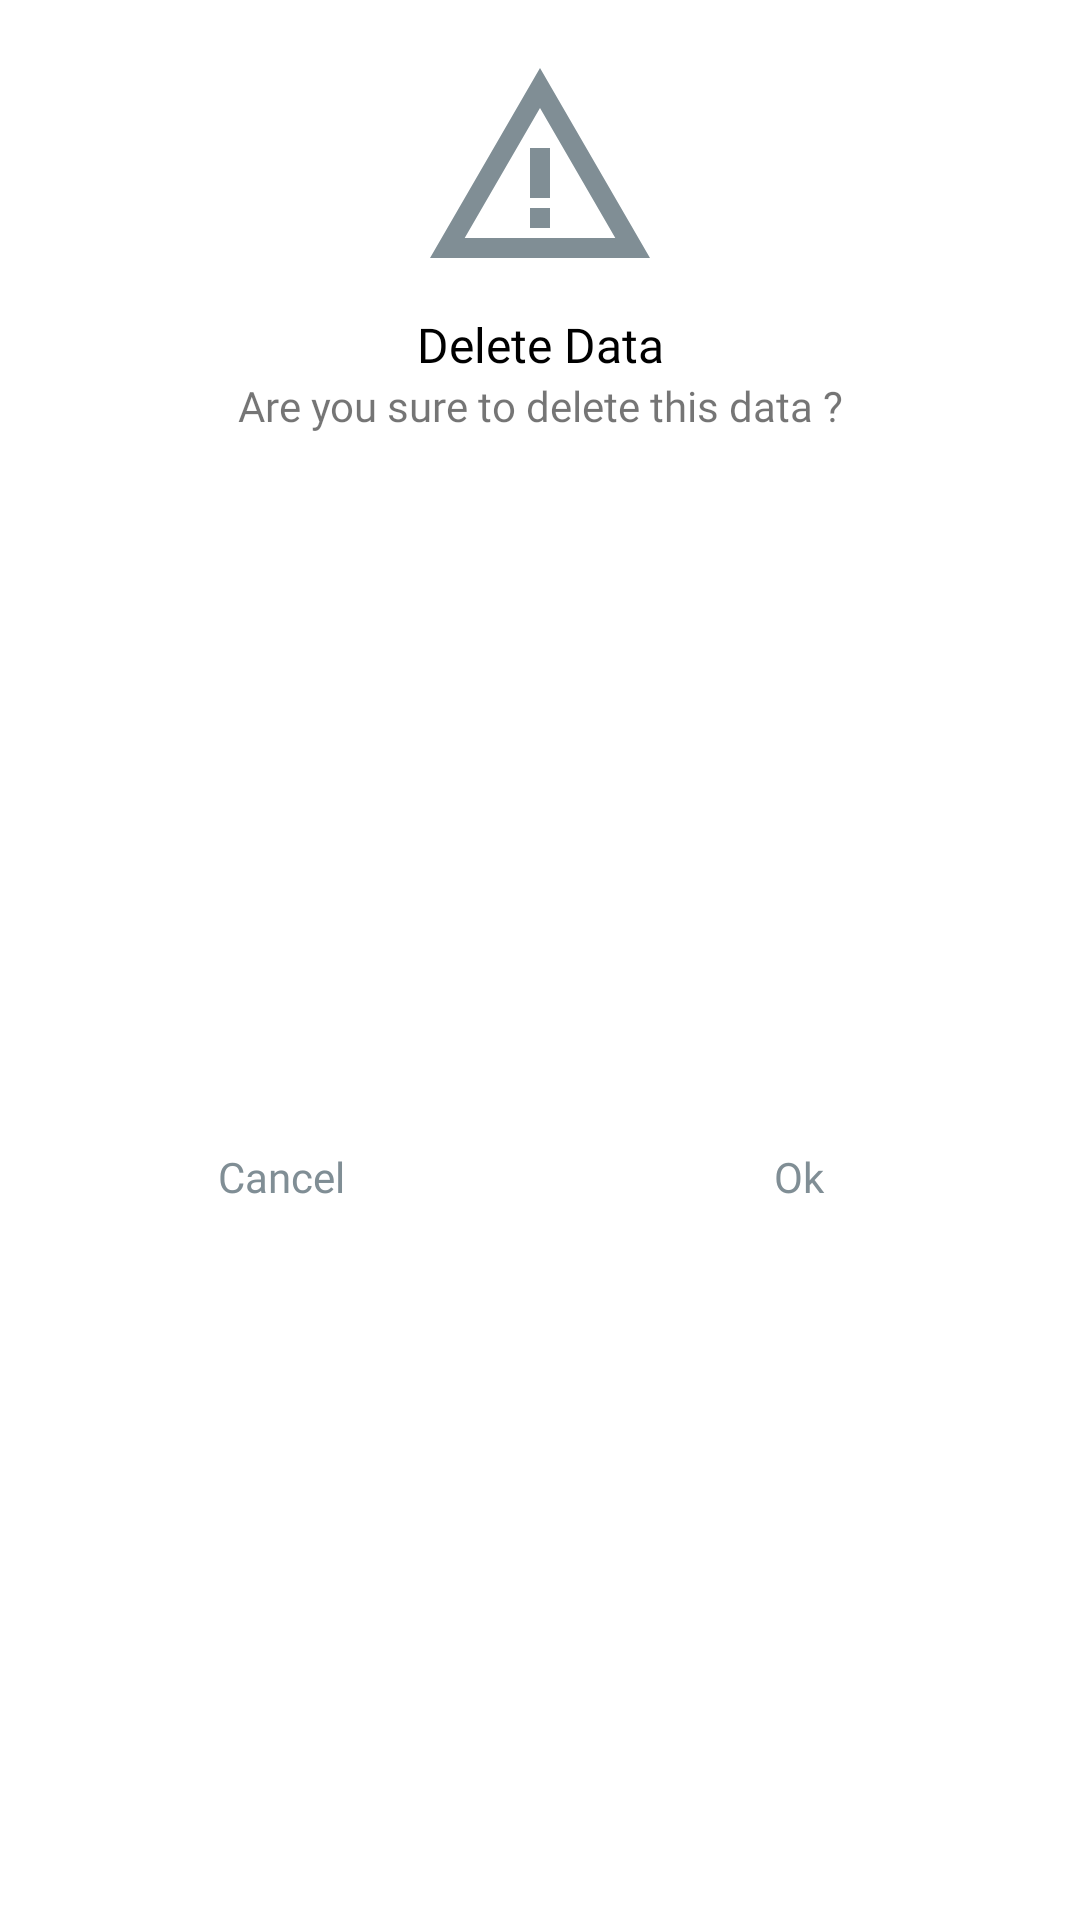

Point at icon controls on the screen. Image size 1080px x 1920px, points as (x=x, y=y).
warning: (x=540, y=163)
